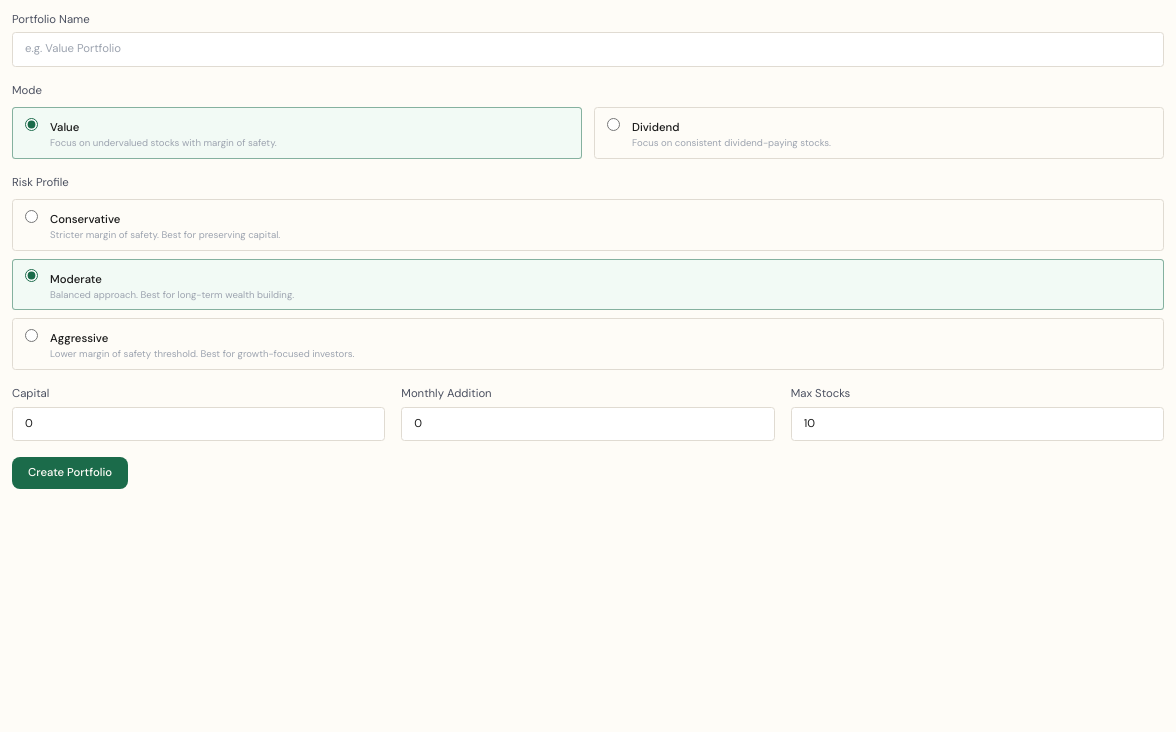
Test case: PortfolioForm › shows error when name is empty
What coordinates should you click on to do the following:
click the button "Create Portfolio"
I would click on:
 (70, 473)
Its box is [12,457,128,489].
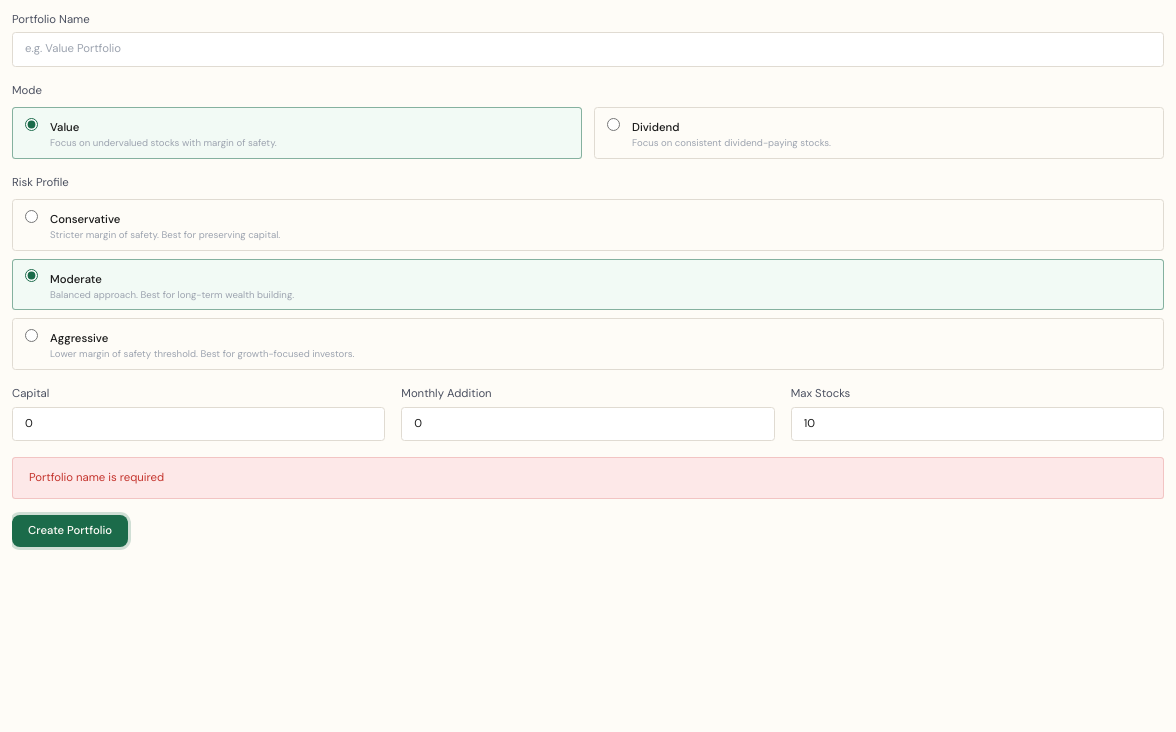
Expected: the message reads "Portfolio name is required", [29,470,164,485]
